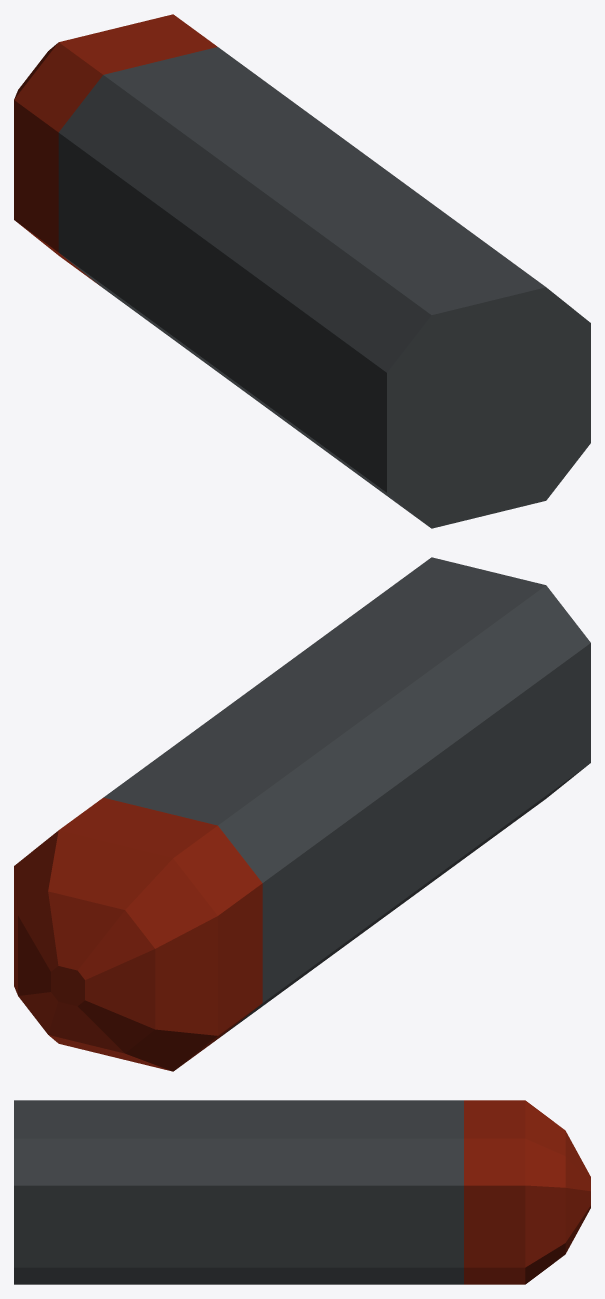
The model's file is RocketAmmo.fbx.
The picture shows the model from 3 angles, top to bottom: view 1: azimuth 30°, elevation 25°; view 2: azimuth 150°, elevation 25°; view 3: azimuth 270°, elevation 25°; orthographic projection. The views are drawn at different scales.
Visible parts, largest first — view 1: Icosphere; view 2: Icosphere; view 3: Icosphere.
Part boxes in pixels (box(x1,y1,x2,y2)): Icosphere: box(14, 14, 590, 528); Icosphere: box(14, 557, 590, 1071); Icosphere: box(14, 1100, 590, 1284).
Bounding box in the file's own units: 200 × 200 × 715.
